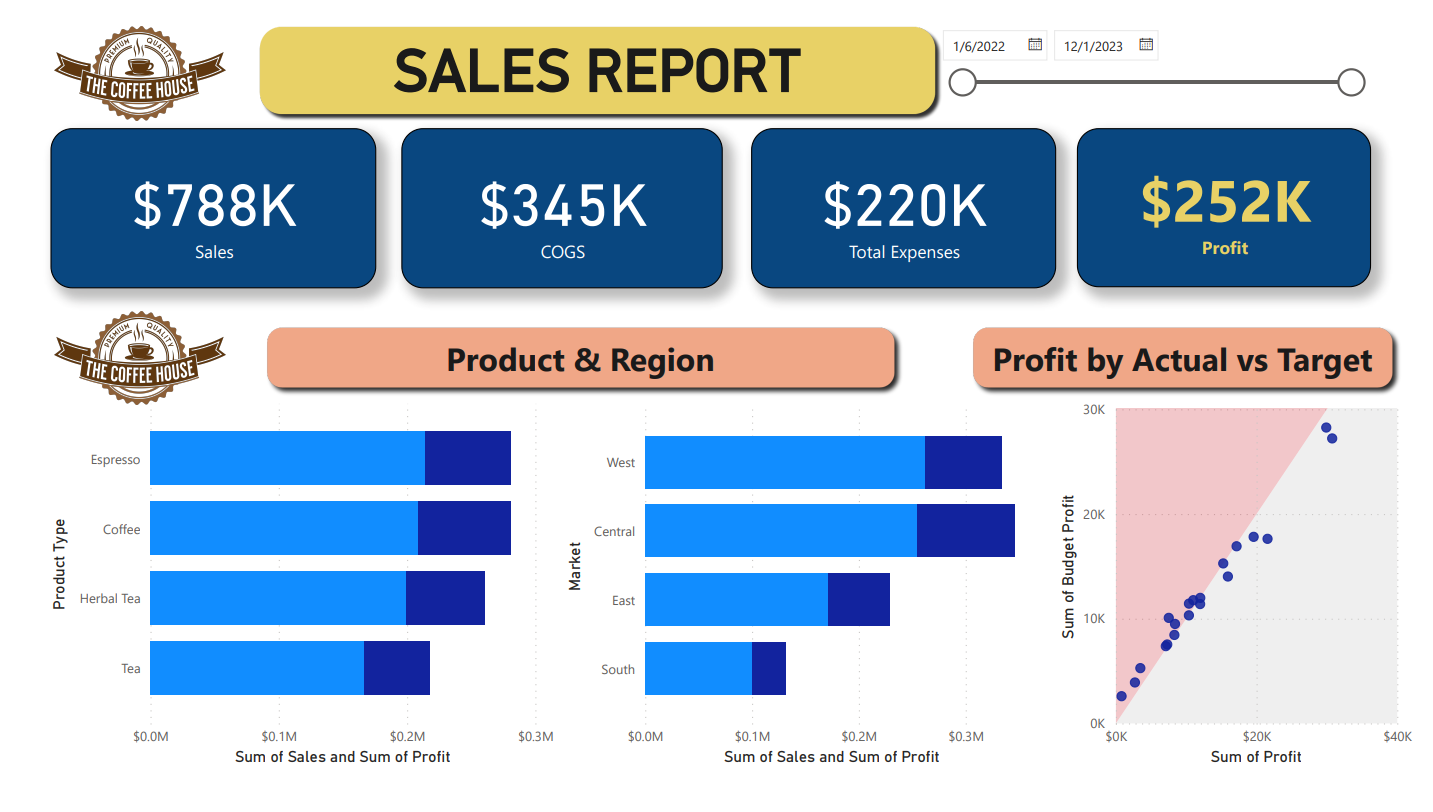

What the dashboard file says about the page in this screenshot:
{"tool":"powerbi","page":{"name":"Page 1","canvas":[1280,720],"ordinal":0},"visuals":[{"type":"group","id":"g1","title":"Group 1","box":[20.9,99.7,1216.9,590.1],"z":0},{"type":"card","fields":{"Values":["Sum(CoffeeChain Query.Sales)"]},"box":[25.7,99.7,299.1,147.1],"z":0,"group":"g2"},{"type":"card","fields":{"Values":["Sum(CoffeeChain Query.COGS)"]},"box":[347.7,99.7,295.4,147.1],"z":1000,"group":"g2"},{"type":"barChart","fields":{"Y":["Sum(CoffeeChain Query.Sales)","Sum(CoffeeChain Query.Profit)"],"Category":["CoffeeChain Query.Market"]},"box":[494.5,343.7,442.6,346.1],"z":1000},{"type":"card","fields":{"Values":["Sum(CoffeeChain Query.Total Expenses)"]},"box":[668.4,99.7,279.8,147.1],"z":2000,"group":"g2"},{"type":"scatterChart","fields":{"Category":["CoffeeChain Query.State"],"X":["Sum(CoffeeChain Query.Profit)"],"Y":["Sum(CoffeeChain Query.Budget Profit)"]},"box":[946.7,343.7,334.1,346.1],"z":2000},{"type":"group","id":"g2","title":"Group 2","box":[25.7,99.7,1212.1,147.1],"z":2001,"group":"g1"},{"type":"image","box":[0,0,166.4,100.1],"z":3000},{"type":"card","fields":{"Values":["Sum(CoffeeChain Query.Profit)"]},"box":[967.5,100.2,270.1,145.9],"z":3000,"group":"g2"},{"type":"textbox","box":[220.7,1.2,622.3,78.4],"z":4000},{"type":"barChart","fields":{"Category":["CoffeeChain Query.Product Type"],"Y":["Sum(CoffeeChain Query.Sales)","Sum(CoffeeChain Query.Profit)"]},"box":[20.9,340,471.6,349.7],"z":4000,"group":"g1"},{"type":"slicer","fields":{"Values":["CoffeeChain Query.Date"]},"box":[832.2,0,408.8,78.4],"z":5000},{"type":"textbox","box":[199,271.4,622.3,57.9],"z":6000},{"type":"image","box":[8.4,260.5,166.4,100.1],"z":7000},{"type":"textbox","box":[832.2,271.4,447.4,57.9],"z":8000}]}

Visuals, with their boxes in screenshot pixels (x1, y1, x2, y2), scaled from the page's 1280x720 canvas onto the 1433x812 screenshot:
"Group 1" group: x1=23 y1=112 x2=1386 y2=778
card - Sum(CoffeeChain Query.Sales): x1=29 y1=112 x2=364 y2=278
card - Sum(CoffeeChain Query.COGS): x1=389 y1=112 x2=720 y2=278
barChart - Sum(CoffeeChain Query.Sales) x Sum(CoffeeChain Query.Profit): x1=554 y1=388 x2=1049 y2=778
card - Sum(CoffeeChain Query.Total Expenses): x1=748 y1=112 x2=1062 y2=278
scatterChart - CoffeeChain Query.State x Sum(CoffeeChain Query.Profit): x1=1060 y1=388 x2=1432 y2=778
"Group 2" group: x1=29 y1=112 x2=1386 y2=278
image: x1=0 y1=0 x2=186 y2=113
card - Sum(CoffeeChain Query.Profit): x1=1083 y1=113 x2=1386 y2=278
textbox: x1=247 y1=1 x2=944 y2=90
barChart - CoffeeChain Query.Product Type x Sum(CoffeeChain Query.Sales): x1=23 y1=383 x2=551 y2=778
slicer - CoffeeChain Query.Date: x1=932 y1=0 x2=1389 y2=88
textbox: x1=223 y1=306 x2=919 y2=371
image: x1=9 y1=294 x2=196 y2=407
textbox: x1=932 y1=306 x2=1432 y2=371
